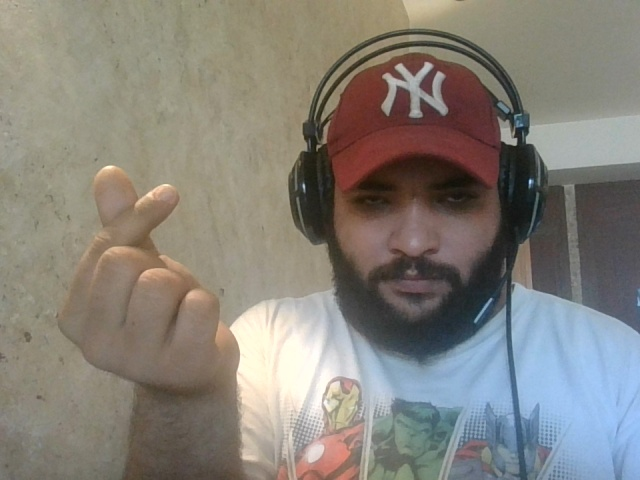iloveyou: (56, 164, 250, 404)
